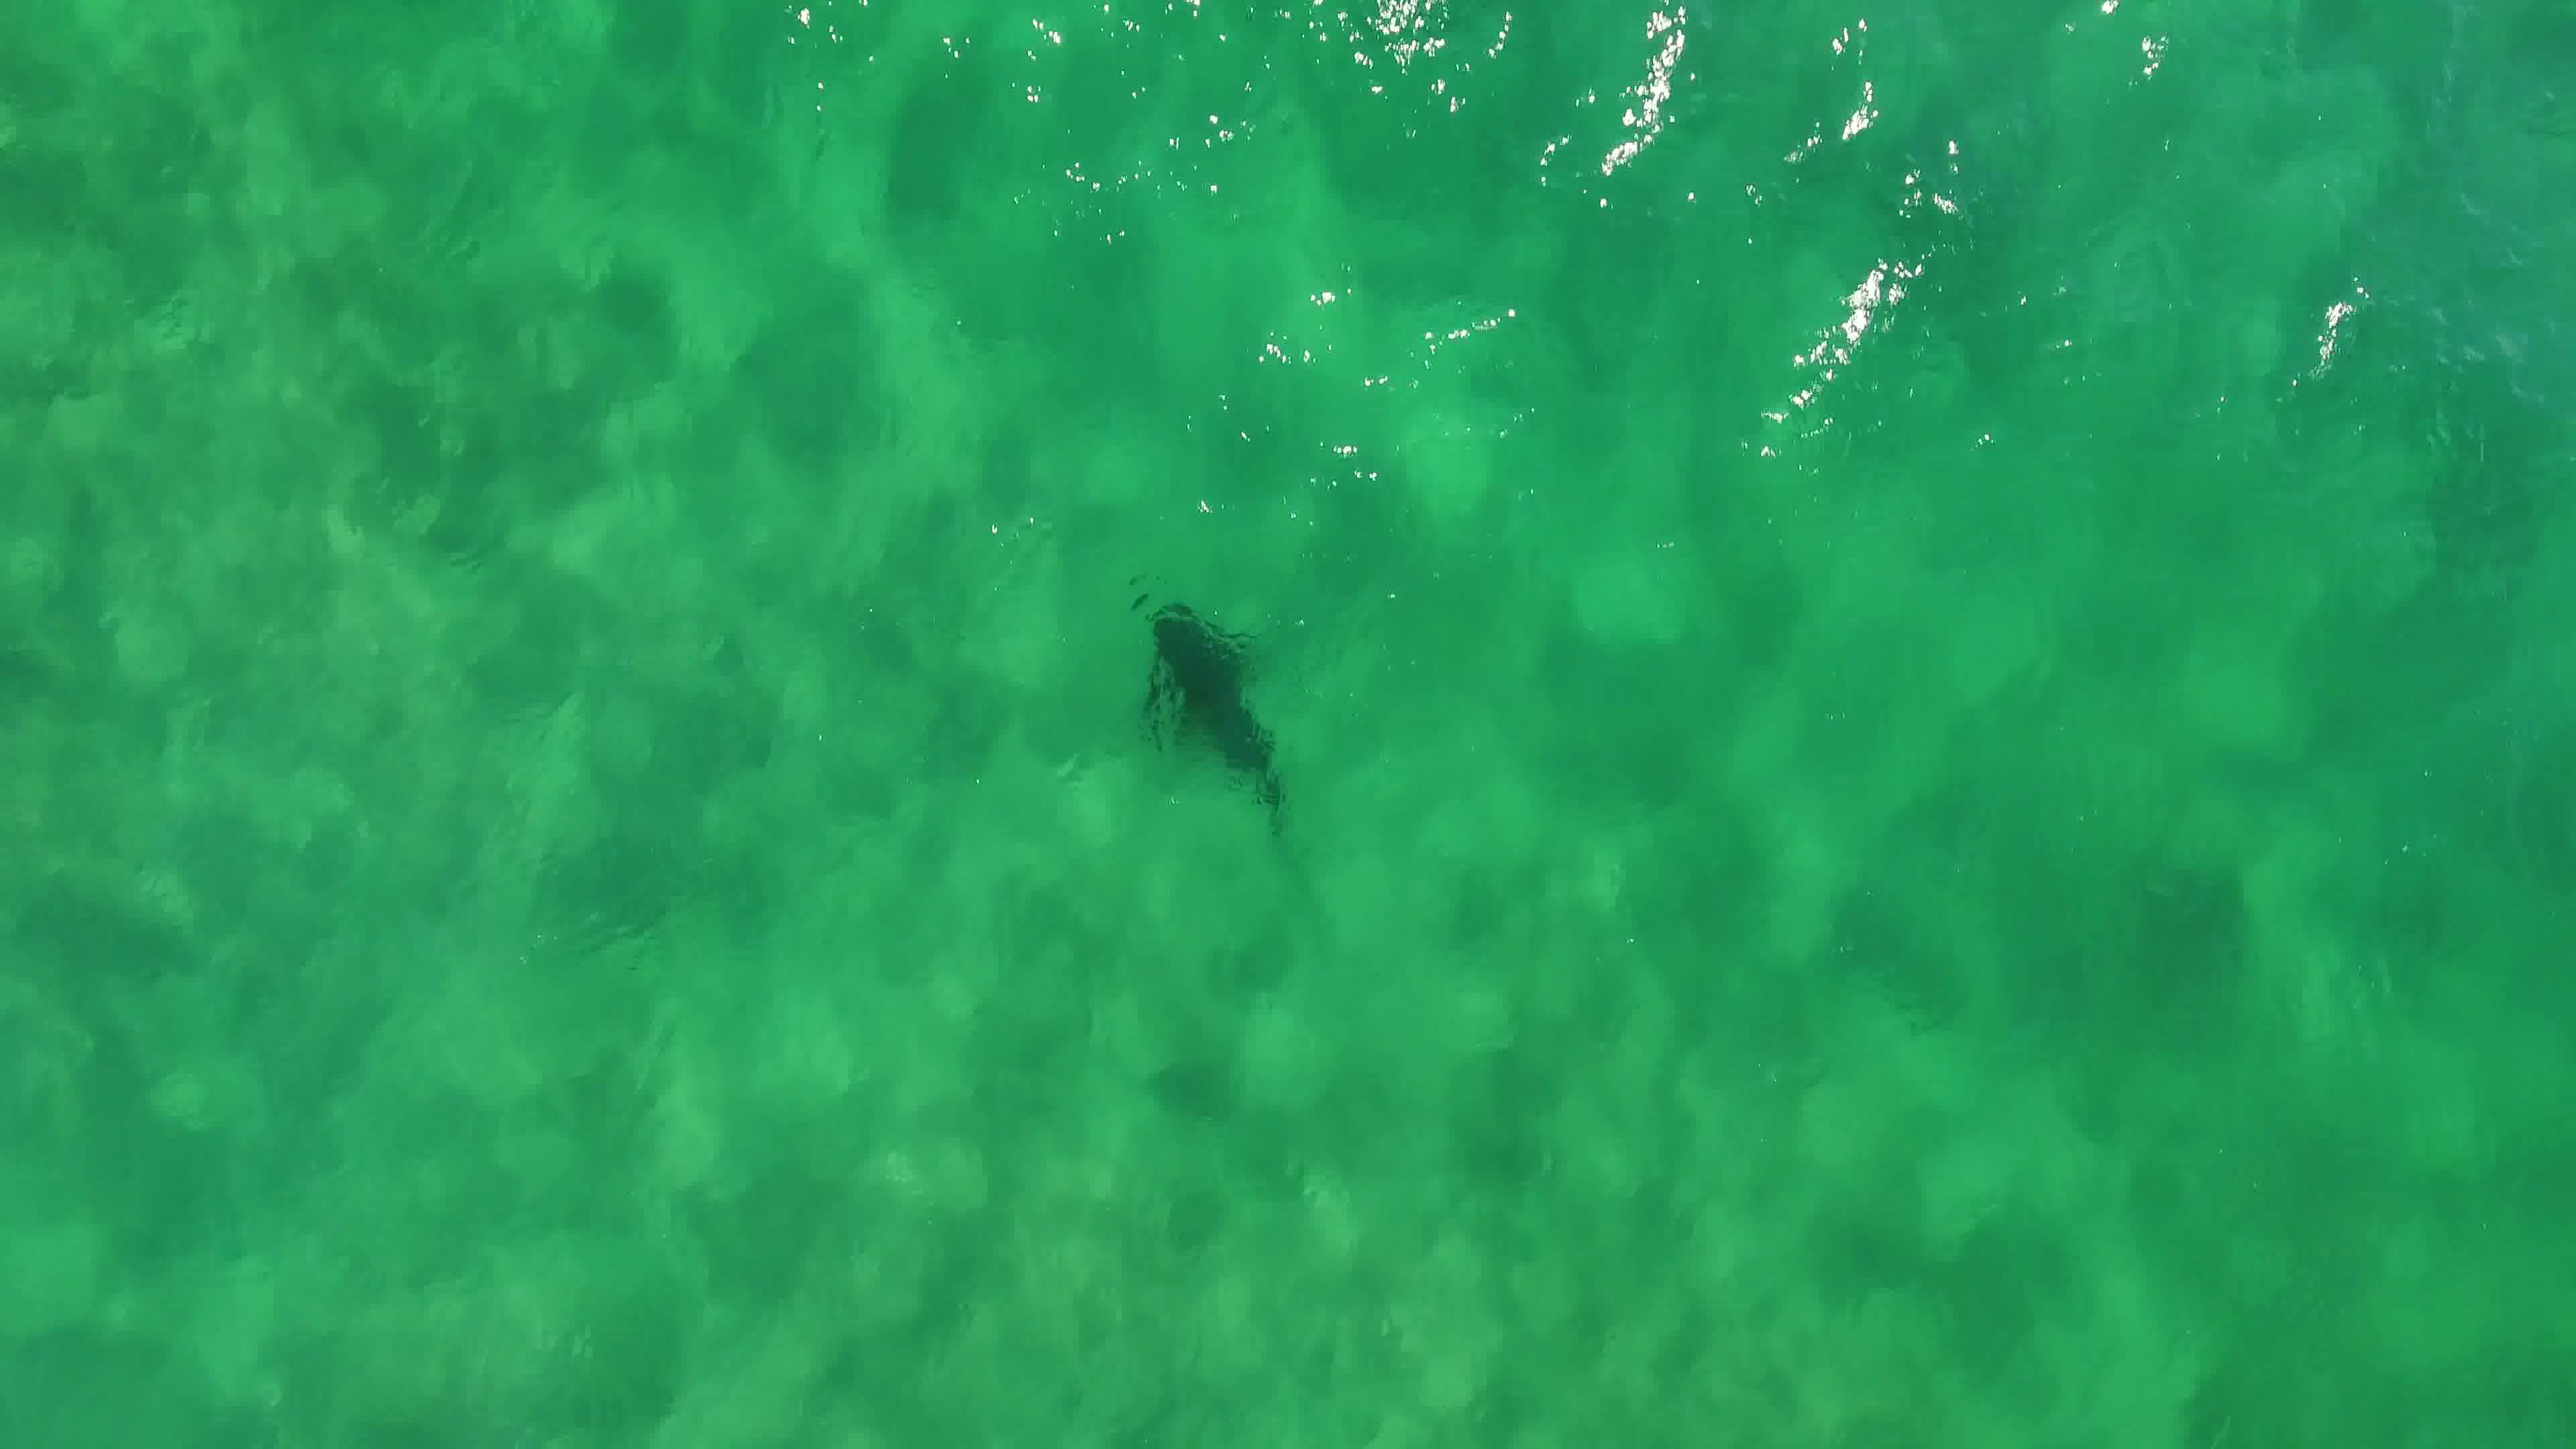shark: (1136, 591, 1309, 823)
